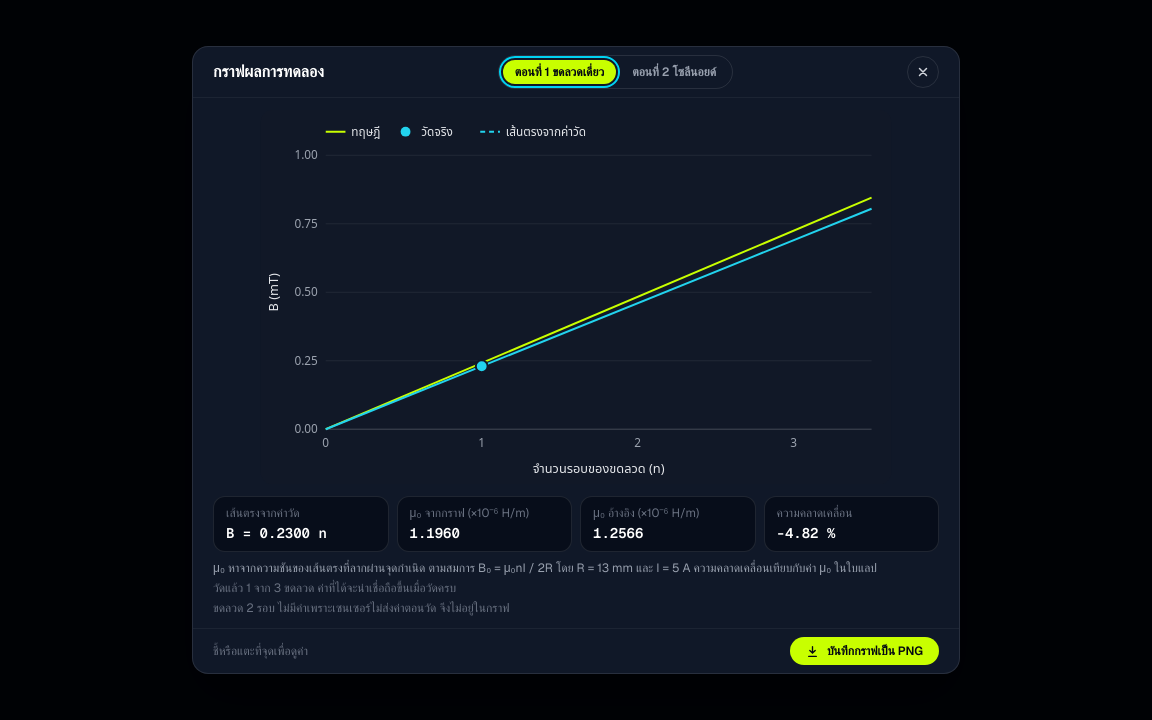
Test: LabGraphs › leaves out, and names, readings that had no sensor value
Expected: the text "ขดลวด 2 รอบ ไม่มีค่า" is shown, [213,600,509,616]
Expected: the text "วัดแล้ว 1 จาก 3 ขดลวด ค่าที่ได้จะน่าเชื่อถือขึ้นเมื่อวัดครบ" is shown, [213,580,456,596]
Click the tab "ตอนที่ 2 โซลีนอยด์".
click(674, 72)  # box [620,60,728,84]
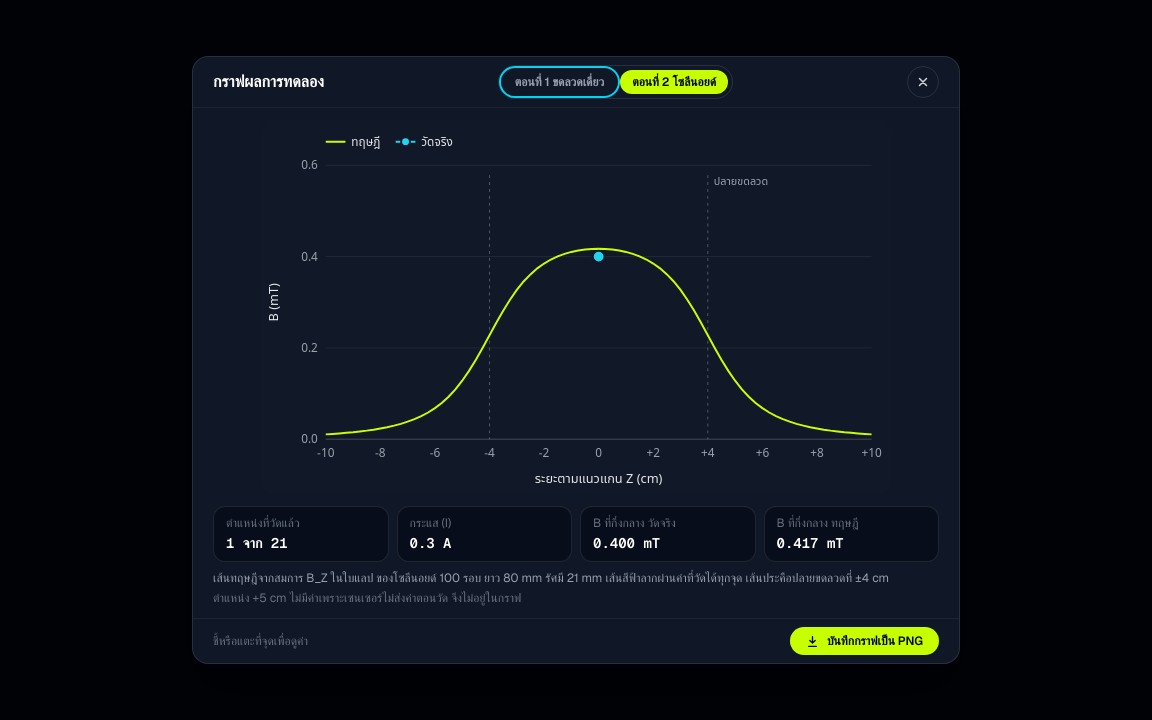
Now the text "ตำแหน่ง +5 cm ไม่มีค่า" is shown, box [213,590,521,606]
